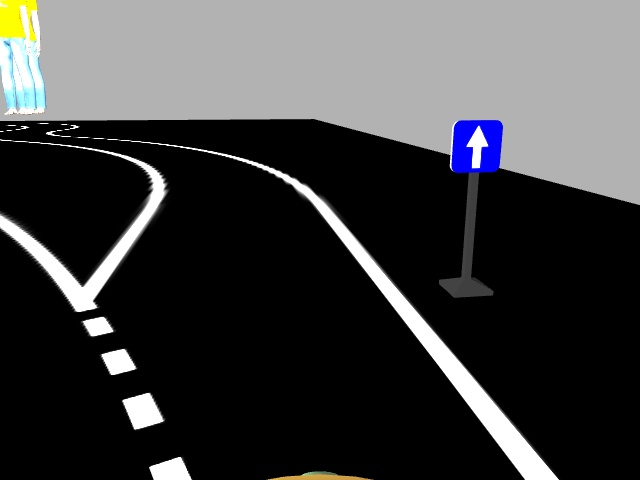OneWay: (448, 118, 502, 171)
